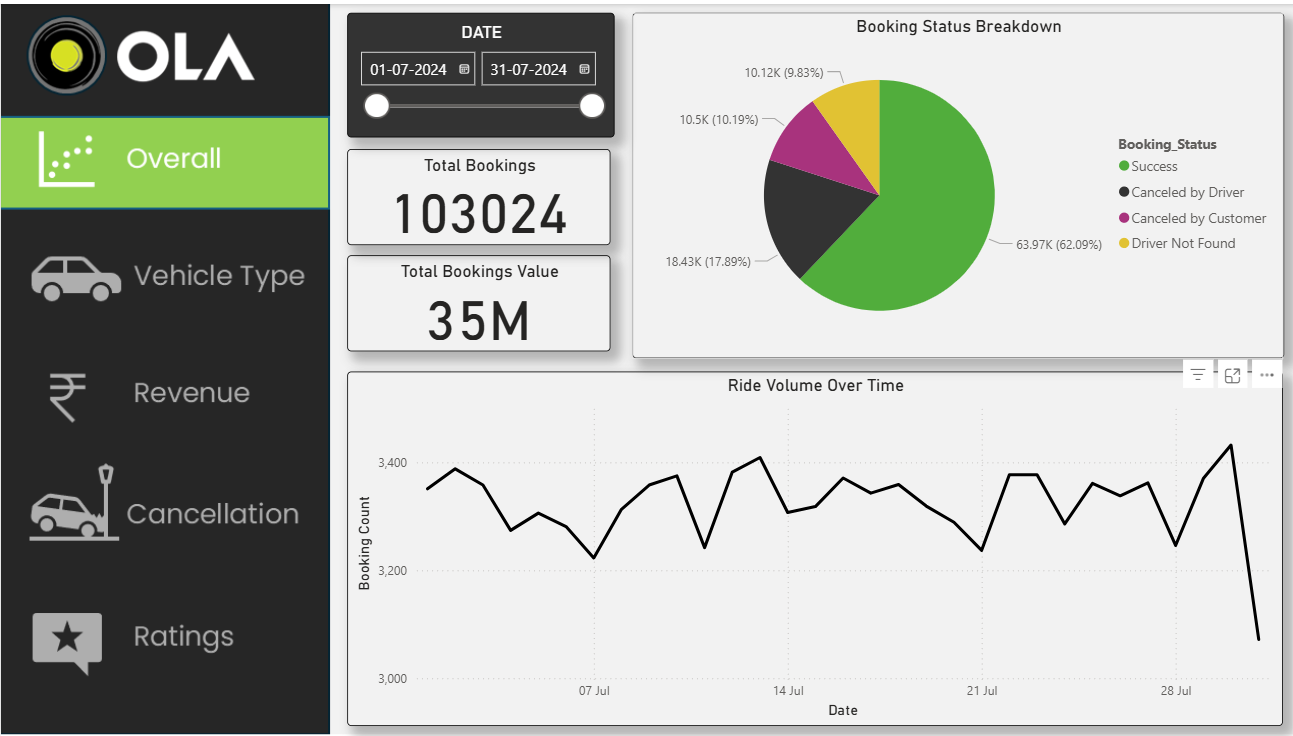

What the dashboard file says about the page in this screenshot:
{"tool":"powerbi","page":{"name":"Overview","canvas":[1280,720],"ordinal":0},"visuals":[{"type":"actionButton","box":[0,224.5,322.7,90.8],"z":0},{"type":"actionButton","box":[0,339.9,322.7,90.8],"z":1000},{"type":"actionButton","box":[0,457.7,322.7,90.8],"z":2000},{"type":"actionButton","box":[0,579.1,322.7,90.8],"z":3000},{"type":"lineChart","title":"Ride Volume Over Time","fields":{"Y":["CountNonNull(July.Booking_ID)"],"Category":["July.Date"]},"box":[340.5,360.3,918.7,347.9],"z":4000},{"type":"pieChart","title":"Booking Status Breakdown","fields":{"Category":["July.Booking_Status"],"Y":["CountNonNull(July.Booking_ID)"]},"box":[619.1,8.7,640.1,339.3],"z":5000},{"type":"slicer","title":"DATE","fields":{"Values":["July.Date"]},"box":[340.5,8.7,262.5,122.6],"z":6000},{"type":"card","title":"Total Bookings","fields":{"Values":["CountNonNull(July.Booking_ID)"]},"box":[340.5,142.4,258.8,94.1],"z":7000},{"type":"card","title":"Total Bookings Value","fields":{"Values":["Sum(July.Booking_Value)"]},"box":[340.5,246.4,258.8,94.1],"z":8000}]}

Visuals, with their boxes in screenshot pixels (x1, y1, x2, y2), scaled from the page's 1280x720 canvas onto the 1293x736 screenshot:
actionButton: Rect(0, 229, 326, 322)
actionButton: Rect(0, 347, 326, 440)
actionButton: Rect(0, 468, 326, 561)
actionButton: Rect(0, 592, 326, 685)
"Ride Volume Over Time" lineChart: Rect(344, 368, 1272, 724)
"Booking Status Breakdown" pieChart: Rect(625, 9, 1272, 356)
"DATE" slicer: Rect(344, 9, 609, 134)
"Total Bookings" card: Rect(344, 146, 605, 242)
"Total Bookings Value" card: Rect(344, 252, 605, 348)
